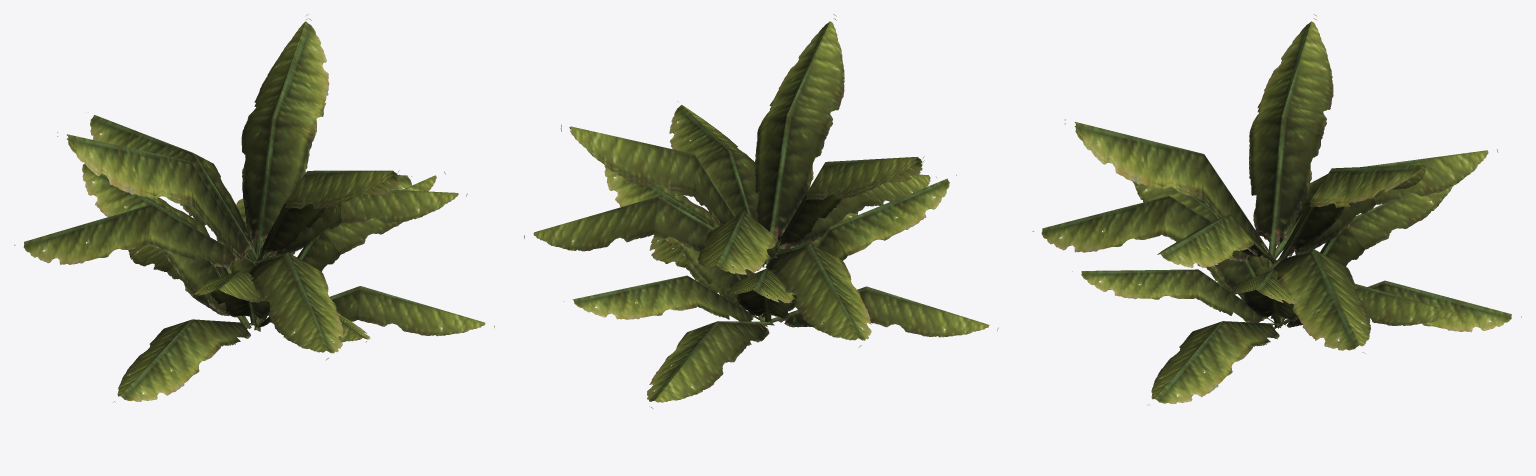
The model's file is tropic_bush_biome_1.glb.
3 views of the same model, side by side, from view 1: azimuth 30°, elevation 25°; view 2: azimuth 150°, elevation 25°; view 3: azimuth 270°, elevation 25° (orthographic).
Visible parts, largest first — view 1: tropic_bush_biome_1; view 2: tropic_bush_biome_1; view 3: tropic_bush_biome_1.
Part boxes in pixels (x1,y1,x2,y2): tropic_bush_biome_1: (14, 14, 494, 402); tropic_bush_biome_1: (524, 14, 998, 408); tropic_bush_biome_1: (1032, 14, 1521, 405).
Bounding box in the file's own units: 4.4 × 2.7 × 4.51.
1 material, 1 textured.
